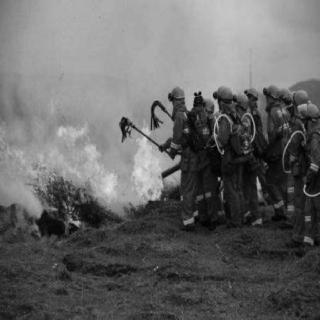Fire: (1, 103, 118, 223), (128, 122, 168, 206)
Smoke: (22, 12, 306, 78)
other: (165, 77, 319, 249)
